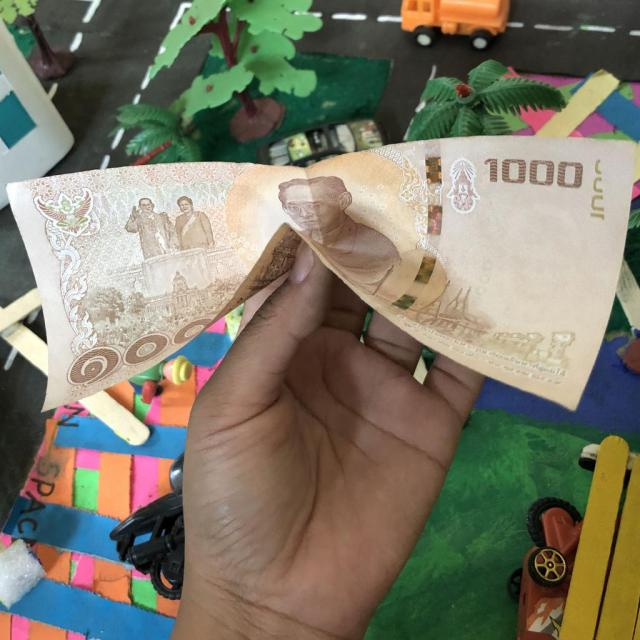THAI1000: (11, 136, 634, 410)
